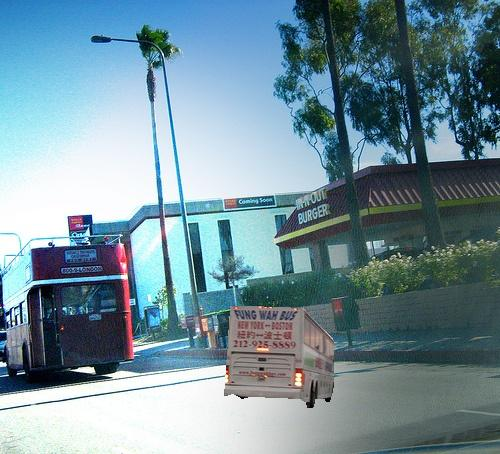tampered: (225, 307, 334, 408)
